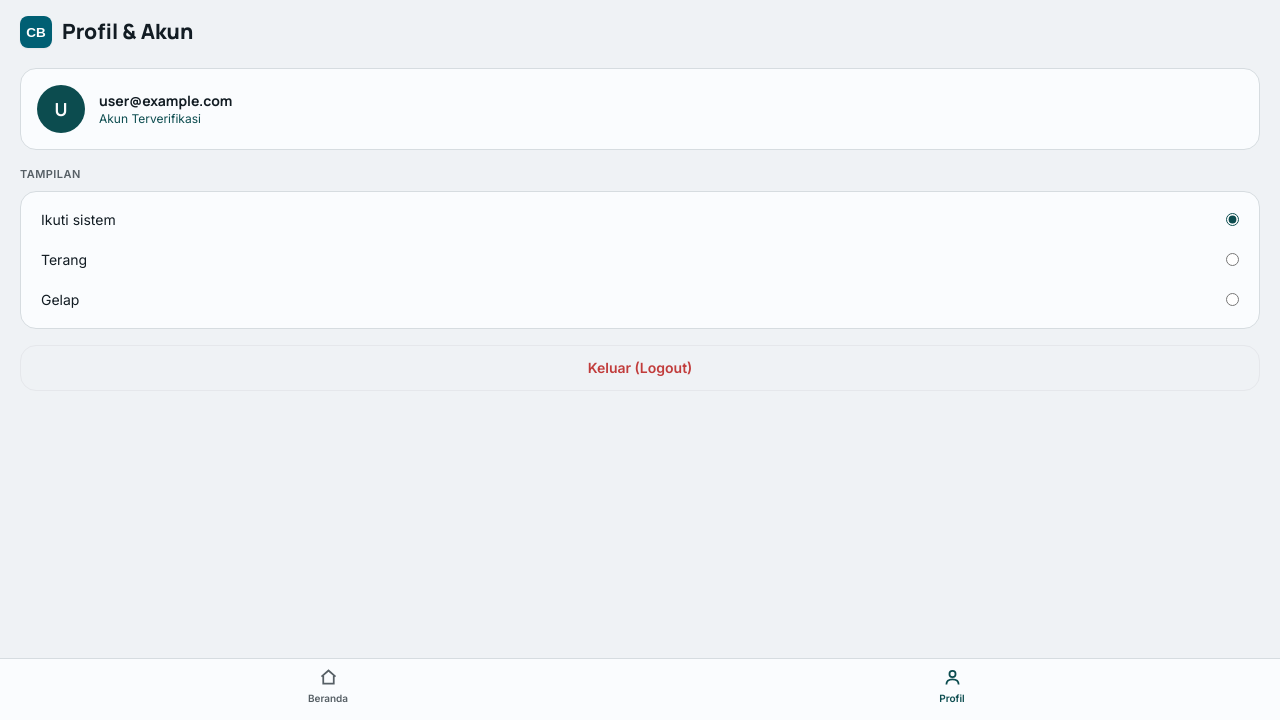
Test case: BottomNavAppLevel & Profile Screen › renders user profile and logout button when authenticated
Check: the text "user@example.com" is shown, box [99,91,232,111]
Click the button "Keluar (Logout)" at (640,368), box [20,344,1260,390]
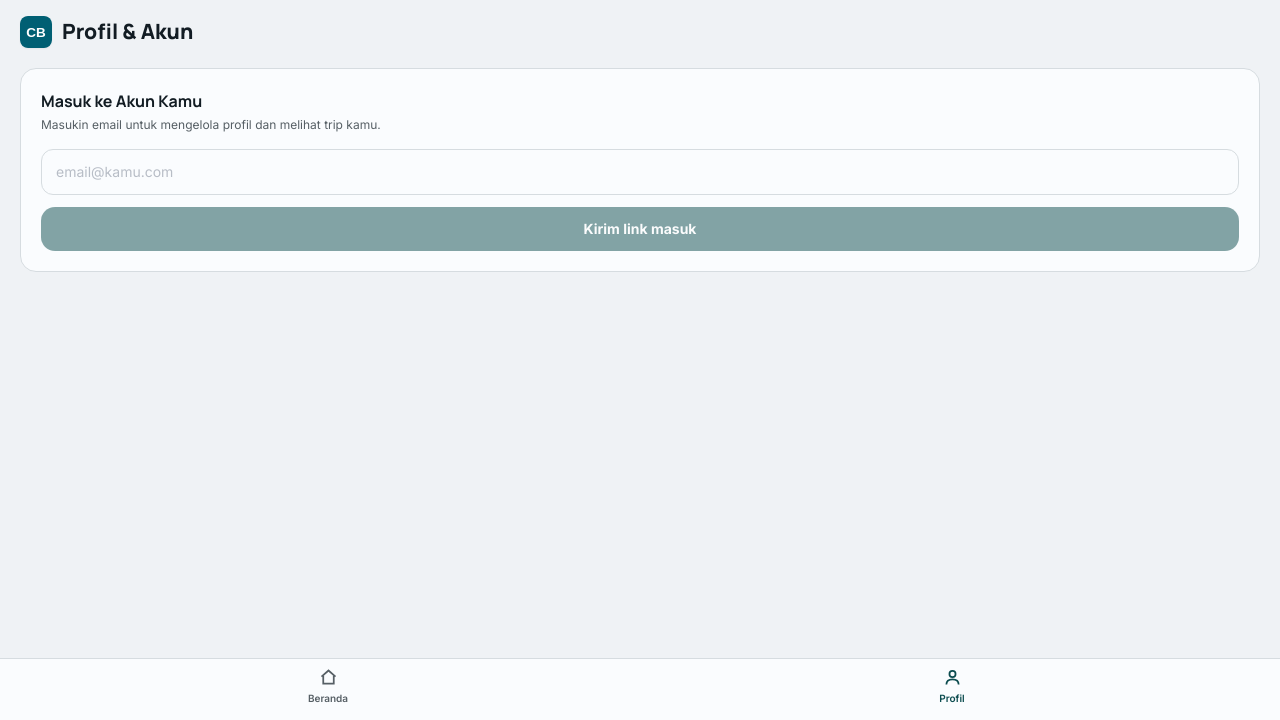
Check: the text "Masuk ke Akun Kamu" is shown, box [41,90,202,112]
